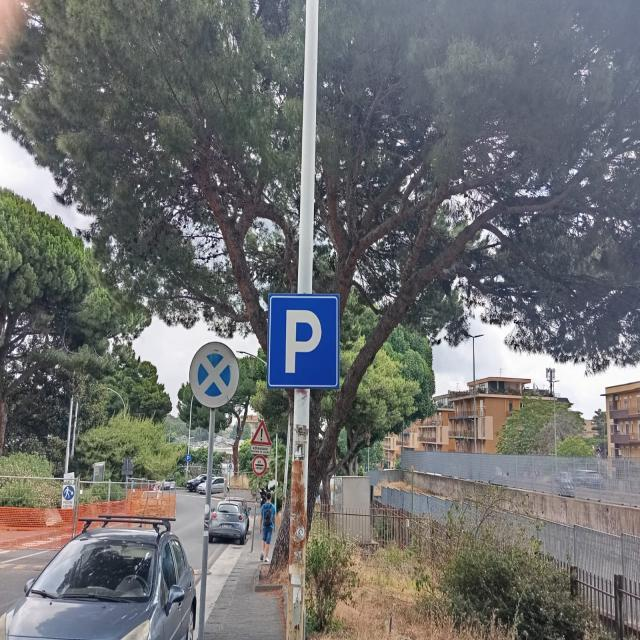forb_waiting: (188, 340, 241, 409)
